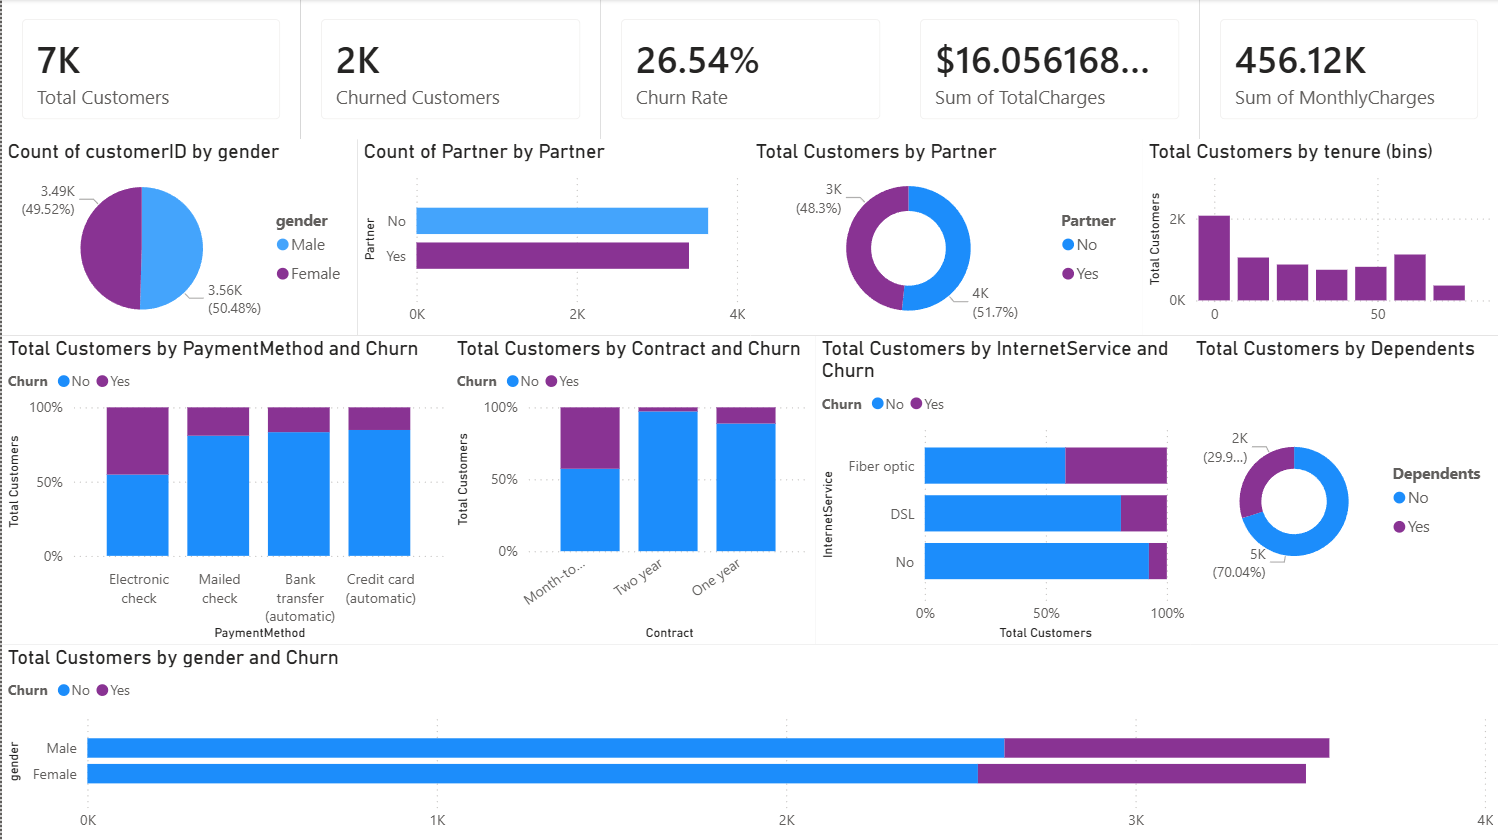

The dashboard page shown, as its layout file describes it:
{"tool":"powerbi","page":{"name":"Page 1","canvas":[1280,720],"ordinal":0},"visuals":[{"type":"cardVisual","fields":{"Data":["Telco_Customer_Churn_Dataset  (2).Total Customers"]},"box":[0,0,255,120],"z":0},{"type":"cardVisual","fields":{"Data":["Telco_Customer_Churn_Dataset  (2).Churned Customers"]},"box":[256,0,256,120],"z":1000},{"type":"cardVisual","fields":{"Data":["Telco_Customer_Churn_Dataset  (2).Churn Rate"]},"box":[512,0,256,120],"z":2000},{"type":"pieChart","fields":{"Category":["Telco_Customer_Churn_Dataset  (2).gender"],"Y":["CountNonNull(Telco_Customer_Churn_Dataset  (2).customerID)"]},"box":[0,120,304,168],"z":3000},{"type":"clusteredBarChart","fields":{"Y":["CountNonNull(Telco_Customer_Churn_Dataset  (2).Partner)"],"Category":["Telco_Customer_Churn_Dataset  (2).Partner"]},"box":[304,120,336,168],"z":4000},{"type":"donutChart","fields":{"Category":["Telco_Customer_Churn_Dataset  (2).Partner"],"Y":["Telco_Customer_Churn_Dataset  (2).Total Customers"]},"box":[640,120,336,168],"z":5000},{"type":"donutChart","fields":{"Category":["Telco_Customer_Churn_Dataset  (2).Dependents"],"Y":["Telco_Customer_Churn_Dataset  (2).Total Customers"]},"box":[1016,288,264,264],"z":6000},{"type":"barChart","fields":{"Category":["Telco_Customer_Churn_Dataset  (2).gender"],"Y":["Telco_Customer_Churn_Dataset  (2).Total Customers"],"Series":["Telco_Customer_Churn_Dataset  (2).Churn"]},"box":[0,552,1280,168],"z":7000},{"type":"clusteredColumnChart","fields":{"Category":["Telco_Customer_Churn_Dataset  (2).tenure (bins)"],"Y":["Telco_Customer_Churn_Dataset  (2).Total Customers"]},"box":[976,120,304,168],"z":8000},{"type":"hundredPercentStackedColumnChart","fields":{"Category":["Telco_Customer_Churn_Dataset  (2).Contract"],"Y":["Telco_Customer_Churn_Dataset  (2).Total Customers"],"Series":["Telco_Customer_Churn_Dataset  (2).Churn"]},"box":[384,288,312,264],"z":9000},{"type":"hundredPercentStackedColumnChart","fields":{"Category":["Telco_Customer_Churn_Dataset  (2).PaymentMethod"],"Y":["Telco_Customer_Churn_Dataset  (2).Total Customers"],"Series":["Telco_Customer_Churn_Dataset  (2).Churn"]},"box":[0,288,384,264],"z":10000},{"type":"hundredPercentStackedBarChart","fields":{"Category":["Telco_Customer_Churn_Dataset  (2).InternetService"],"Y":["Telco_Customer_Churn_Dataset  (2).Total Customers"],"Series":["Telco_Customer_Churn_Dataset  (2).Churn"]},"box":[696,288,320,264],"z":11000},{"type":"cardVisual","fields":{"Data":["Sum(Telco_Customer_Churn_Dataset  (2).TotalCharges)"]},"box":[768,0,256,120],"z":12000},{"type":"cardVisual","fields":{"Data":["Sum(Telco_Customer_Churn_Dataset  (2).MonthlyCharges)"]},"box":[1024,0,255,120],"z":13000}]}

Visuals, with their boxes in screenshot pixels (x1, y1, x2, y2), scaled from the page's 1280x720 canvas onto the 1498x840 screenshot:
cardVisual - Telco_Customer_Churn_Dataset  (2).Total Customers: 0,0,298,140
cardVisual - Telco_Customer_Churn_Dataset  (2).Churned Customers: 300,0,599,140
cardVisual - Telco_Customer_Churn_Dataset  (2).Churn Rate: 599,0,899,140
pieChart - Telco_Customer_Churn_Dataset  (2).gender x CountNonNull(Telco_Customer_Churn_Dataset  (2).customerID): 0,140,356,336
clusteredBarChart - CountNonNull(Telco_Customer_Churn_Dataset  (2).Partner) x Telco_Customer_Churn_Dataset  (2).Partner: 356,140,749,336
donutChart - Telco_Customer_Churn_Dataset  (2).Partner x Telco_Customer_Churn_Dataset  (2).Total Customers: 749,140,1142,336
donutChart - Telco_Customer_Churn_Dataset  (2).Dependents x Telco_Customer_Churn_Dataset  (2).Total Customers: 1189,336,1497,644
barChart - Telco_Customer_Churn_Dataset  (2).gender x Telco_Customer_Churn_Dataset  (2).Total Customers: 0,644,1497,839
clusteredColumnChart - Telco_Customer_Churn_Dataset  (2).tenure (bins) x Telco_Customer_Churn_Dataset  (2).Total Customers: 1142,140,1497,336
hundredPercentStackedColumnChart - Telco_Customer_Churn_Dataset  (2).Contract x Telco_Customer_Churn_Dataset  (2).Total Customers: 449,336,815,644
hundredPercentStackedColumnChart - Telco_Customer_Churn_Dataset  (2).PaymentMethod x Telco_Customer_Churn_Dataset  (2).Total Customers: 0,336,449,644
hundredPercentStackedBarChart - Telco_Customer_Churn_Dataset  (2).InternetService x Telco_Customer_Churn_Dataset  (2).Total Customers: 815,336,1189,644
cardVisual - Sum(Telco_Customer_Churn_Dataset  (2).TotalCharges): 899,0,1198,140
cardVisual - Sum(Telco_Customer_Churn_Dataset  (2).MonthlyCharges): 1198,0,1497,140
